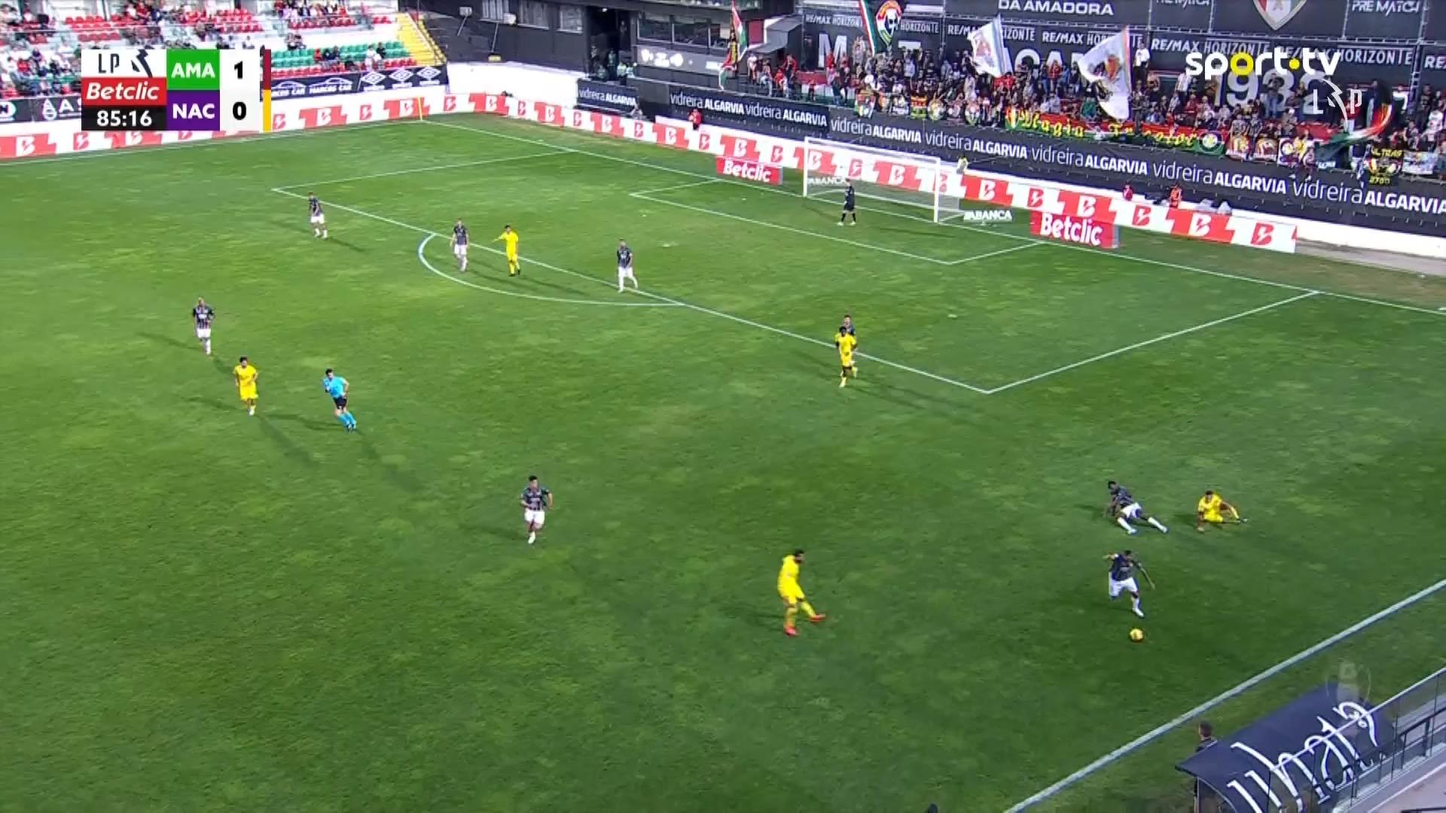ball: (1128, 627, 1143, 641)
goalkeeper: (837, 179, 856, 226)
player: (776, 547, 826, 636), (1102, 549, 1155, 618), (1104, 479, 1168, 535), (518, 473, 553, 544), (1194, 489, 1248, 533), (833, 321, 858, 387), (232, 355, 259, 416), (491, 223, 520, 276), (191, 297, 215, 355), (615, 238, 638, 293), (450, 218, 470, 272), (306, 190, 328, 239)
referee: (321, 367, 357, 432)
